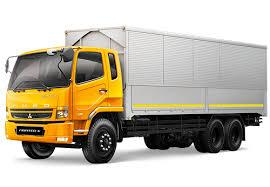truck: (1, 41, 139, 169)
